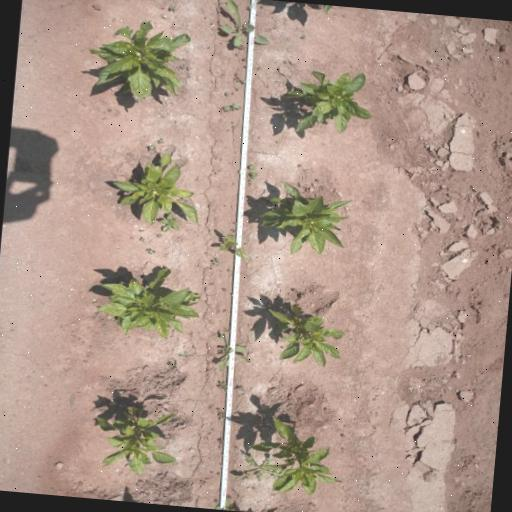plant: (89, 261, 207, 345), (269, 62, 382, 143), (86, 19, 191, 106), (252, 178, 358, 260), (247, 413, 346, 498), (88, 400, 186, 478), (109, 153, 202, 226), (260, 300, 350, 372)
weed: (214, 0, 272, 50), (212, 334, 254, 376), (233, 451, 280, 484), (214, 232, 254, 262), (154, 213, 183, 234), (236, 162, 259, 184), (232, 71, 248, 85), (214, 407, 226, 422), (207, 258, 221, 270), (215, 380, 228, 392), (144, 248, 158, 256), (230, 102, 242, 111), (166, 3, 178, 12), (178, 350, 188, 360), (144, 144, 156, 152), (221, 105, 231, 114), (154, 138, 164, 144), (138, 236, 145, 244), (155, 233, 163, 239)
